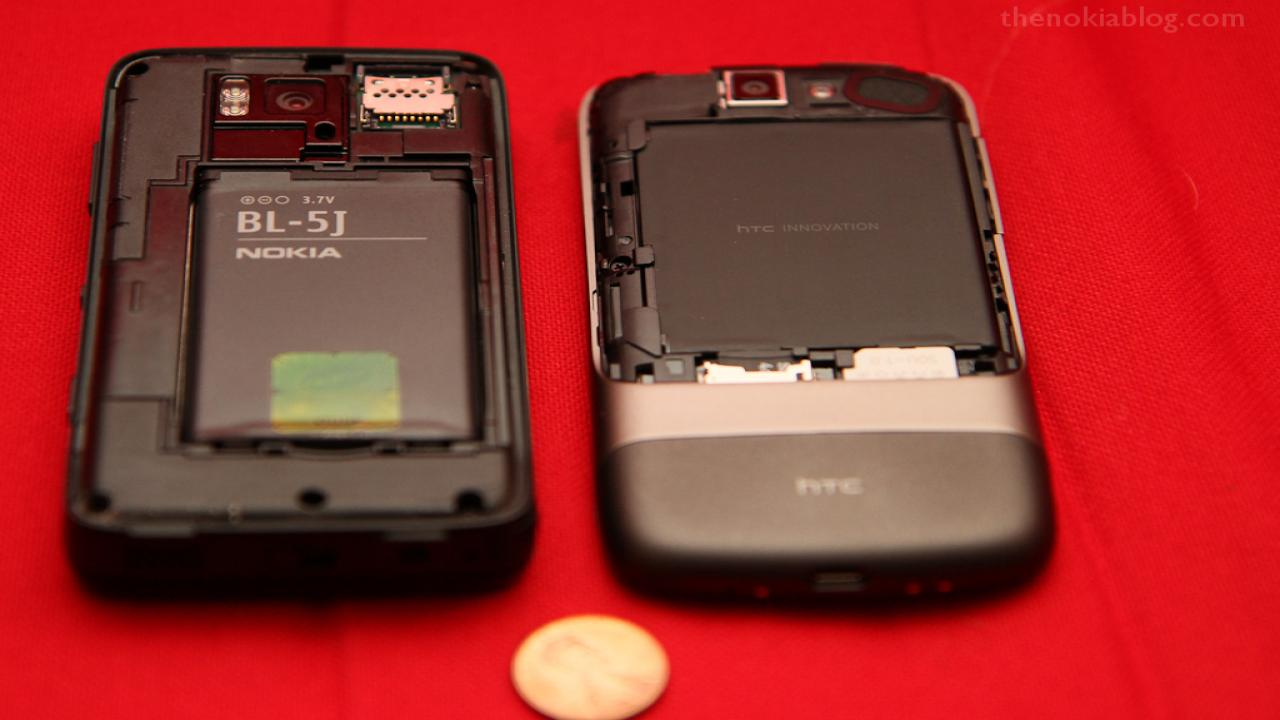coin: (512, 617, 673, 720)
